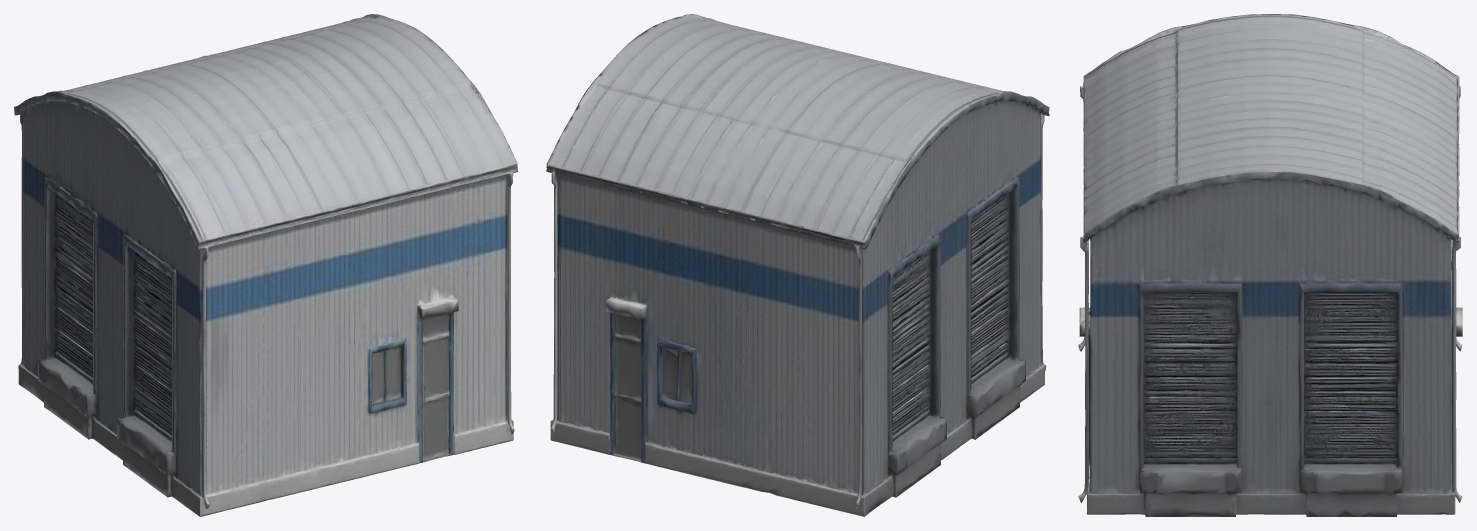
The model's file is empresa_f1.glb.
The picture shows the model from 3 angles, left to right: view 1: azimuth 30°, elevation 25°; view 2: azimuth 150°, elevation 25°; view 3: azimuth 270°, elevation 25°; orthographic projection.
Parts seen in each view (by area): view 1: tripo_node_56ec586a-9e34-45a5-881c-61e70b4a2d85; view 2: tripo_node_56ec586a-9e34-45a5-881c-61e70b4a2d85; view 3: tripo_node_56ec586a-9e34-45a5-881c-61e70b4a2d85.
Boxes of the visible parts, x1,y1,x2,y2 form: tripo_node_56ec586a-9e34-45a5-881c-61e70b4a2d85: (14,14,517,516); tripo_node_56ec586a-9e34-45a5-881c-61e70b4a2d85: (546,14,1049,516); tripo_node_56ec586a-9e34-45a5-881c-61e70b4a2d85: (1078,14,1462,516).
Bounding box in the file's own units: 1 × 1 × 1.
Materials: 1 (1 with a texture image).
